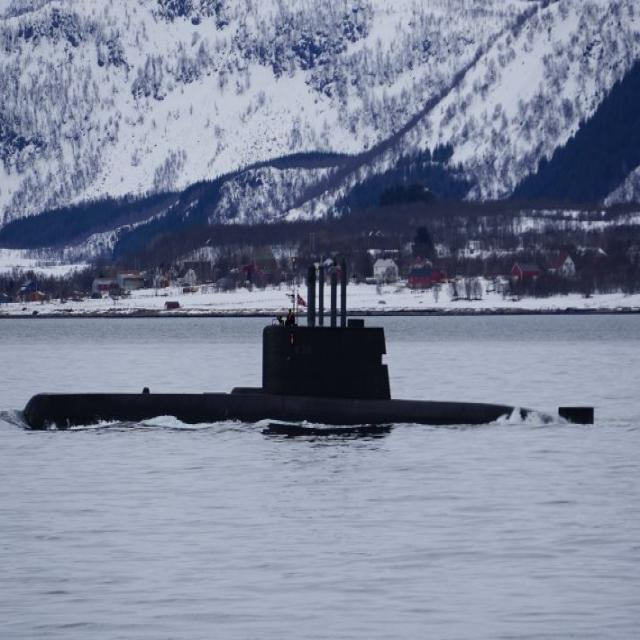submarine: (26, 251, 625, 433)
